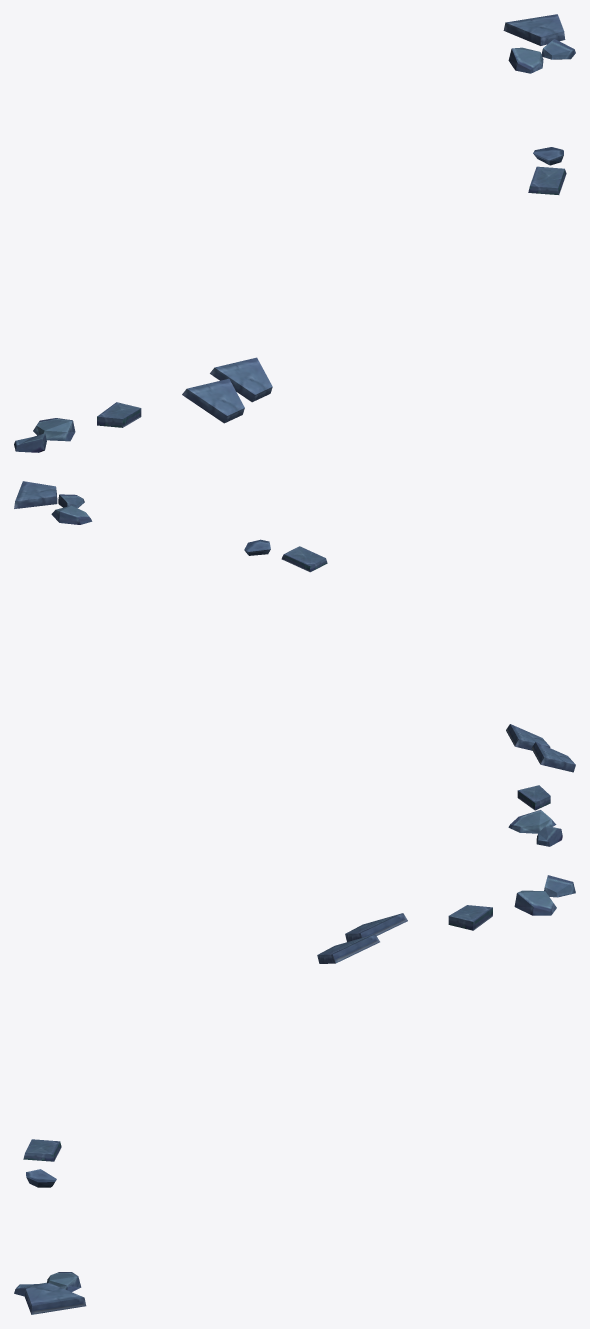
The model's file is Area10_16.fbx.
The picture shows the model from 3 angles, top to bottom: view 1: azimuth 90°, elevation 25°; view 2: azimuth 150°, elevation 25°; view 3: azimuth 270°, elevation 25°; orthographic projection. The views are drawn at different scales.
Visible parts, largest first — view 1: Area10_16; view 2: Area10_16; view 3: Area10_16.
Boxes of the visible parts, x1,y1,x2,y2 form: Area10_16: (14,14,575,452); Area10_16: (14,481,575,846); Area10_16: (14,875,575,1314).
Size of the model in its own units: 3258 by 99.2 by 1798.
1 material, 1 textured.
